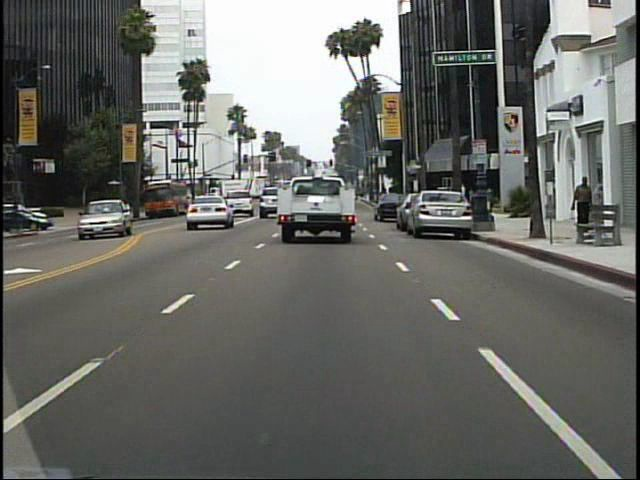person: (569, 175, 597, 235), (104, 194, 119, 222)
